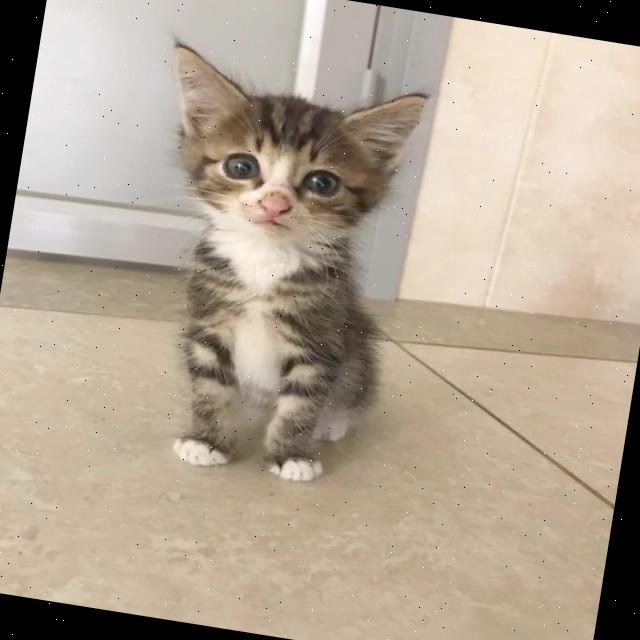cat: (76, 21, 514, 552)
